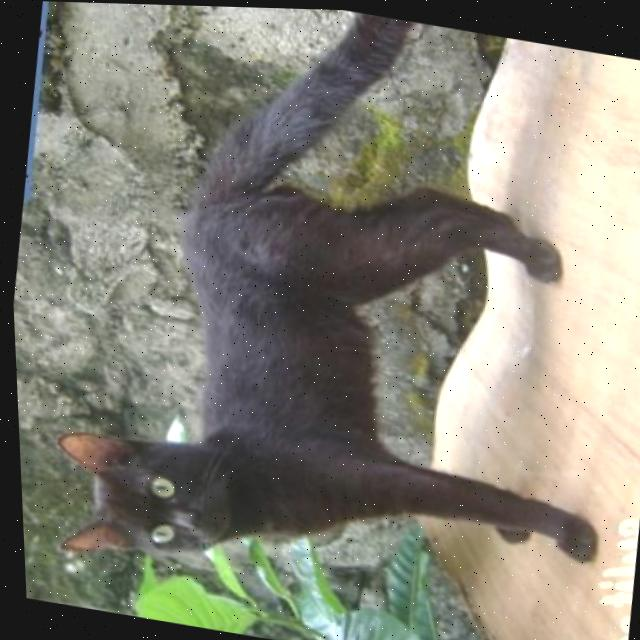Bombay: (14, 0, 640, 638)
